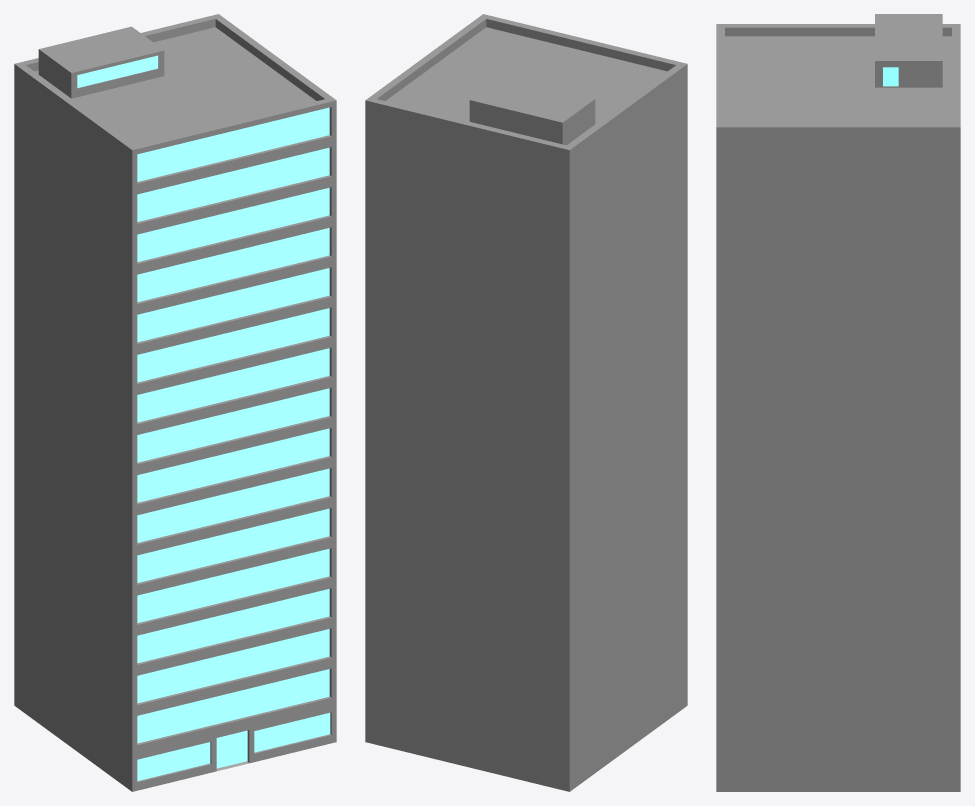
File: habitation_1.fbx
3 renders of one model, left to right at view 1: azimuth 30°, elevation 25°; view 2: azimuth 150°, elevation 25°; view 3: azimuth 270°, elevation 25°, orthographic. The views are drawn at different scales.
Visible parts, largest first — view 1: Cube; view 2: Cube; view 3: Cube.
Part boxes in pixels (x1,y1,x2,y2): Cube: [14, 14, 336, 791]; Cube: [365, 14, 687, 791]; Cube: [716, 14, 960, 791].
Size of the model in its own units: 200 by 616 by 200.
